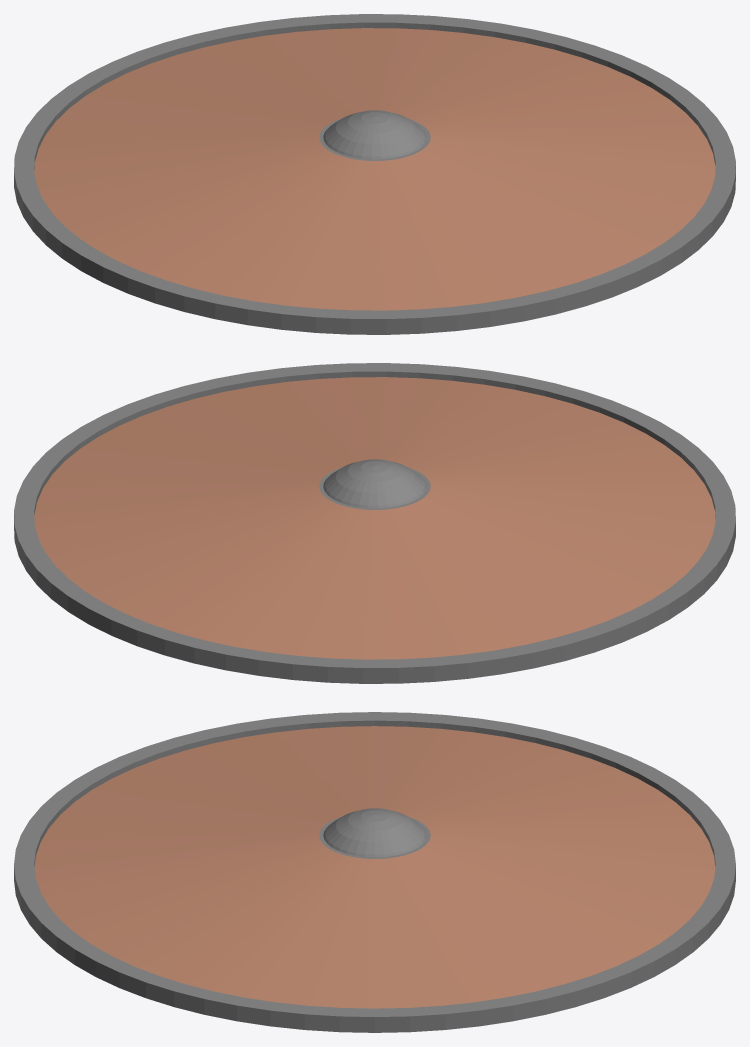
File: Shield - Simple.fbx
3 views of the same model, one above another, from view 1: azimuth 30°, elevation 25°; view 2: azimuth 150°, elevation 25°; view 3: azimuth 270°, elevation 25° (orthographic).
Parts seen in each view (by area): view 1: Shield Body; view 2: Shield Body; view 3: Shield Body.
Part boxes in pixels (x1,y1,x2,y2): Shield Body: [14, 14, 735, 334]; Shield Body: [14, 363, 735, 683]; Shield Body: [14, 712, 735, 1032].
Bounding box in the file's own units: 63.57 × 9.43 × 63.57.
